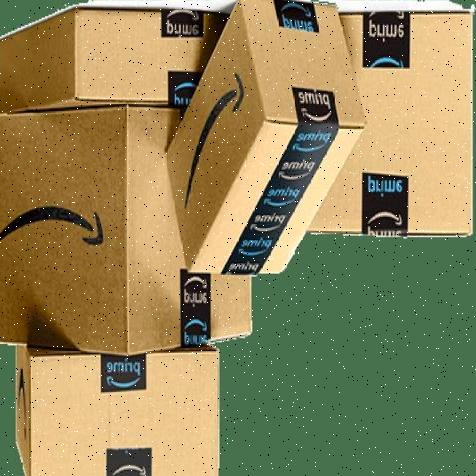Amazon: (0, 105, 261, 353), (167, 0, 365, 281), (292, 6, 476, 236), (9, 341, 218, 476), (0, 0, 236, 114)
